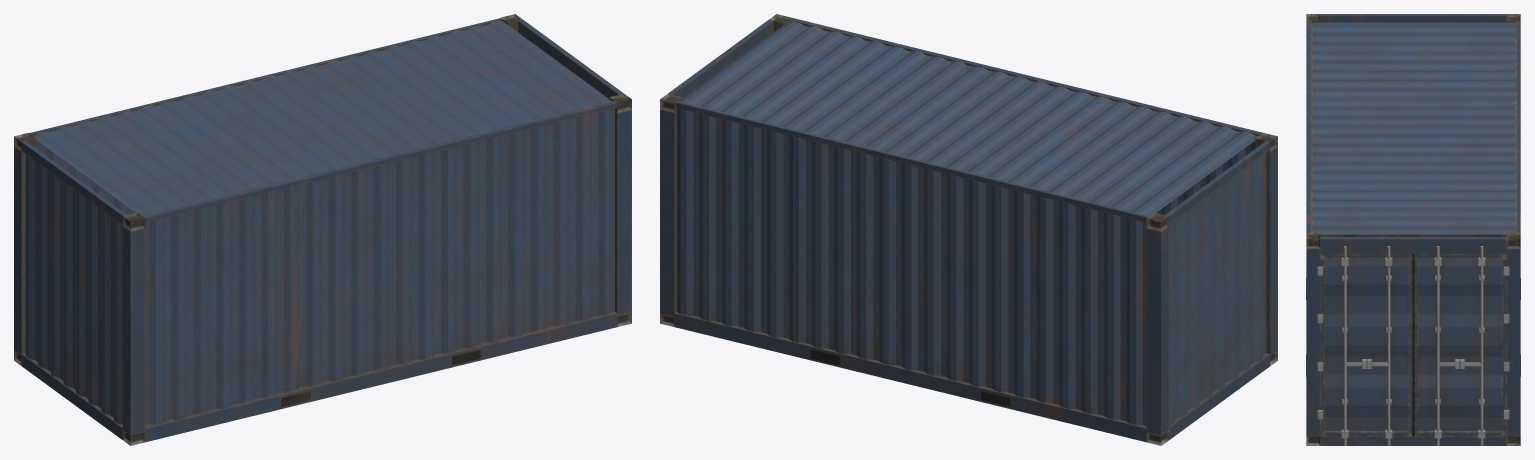
File: shipping-container-proz.glb
The picture shows the model from 3 angles, left to right: view 1: azimuth 30°, elevation 25°; view 2: azimuth 150°, elevation 25°; view 3: azimuth 270°, elevation 25°; orthographic projection. The views are drawn at different scales.
Visible parts, largest first — view 1: shipping-container_body; view 2: shipping-container_body; view 3: shipping-container_body.
Boxes of the visible parts, bbox=[...] form: shipping-container_body: bbox=[14, 14, 631, 445]; shipping-container_body: bbox=[660, 14, 1277, 445]; shipping-container_body: bbox=[1306, 14, 1520, 445].
Size of the model in its own units: 6.13 by 2.59 by 2.44.
1 material, 1 textured.
